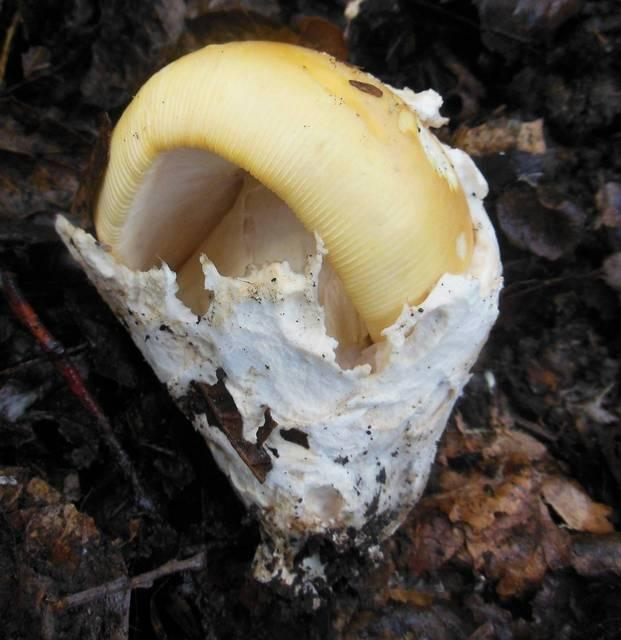edible_mushroom: (53, 37, 505, 579)
